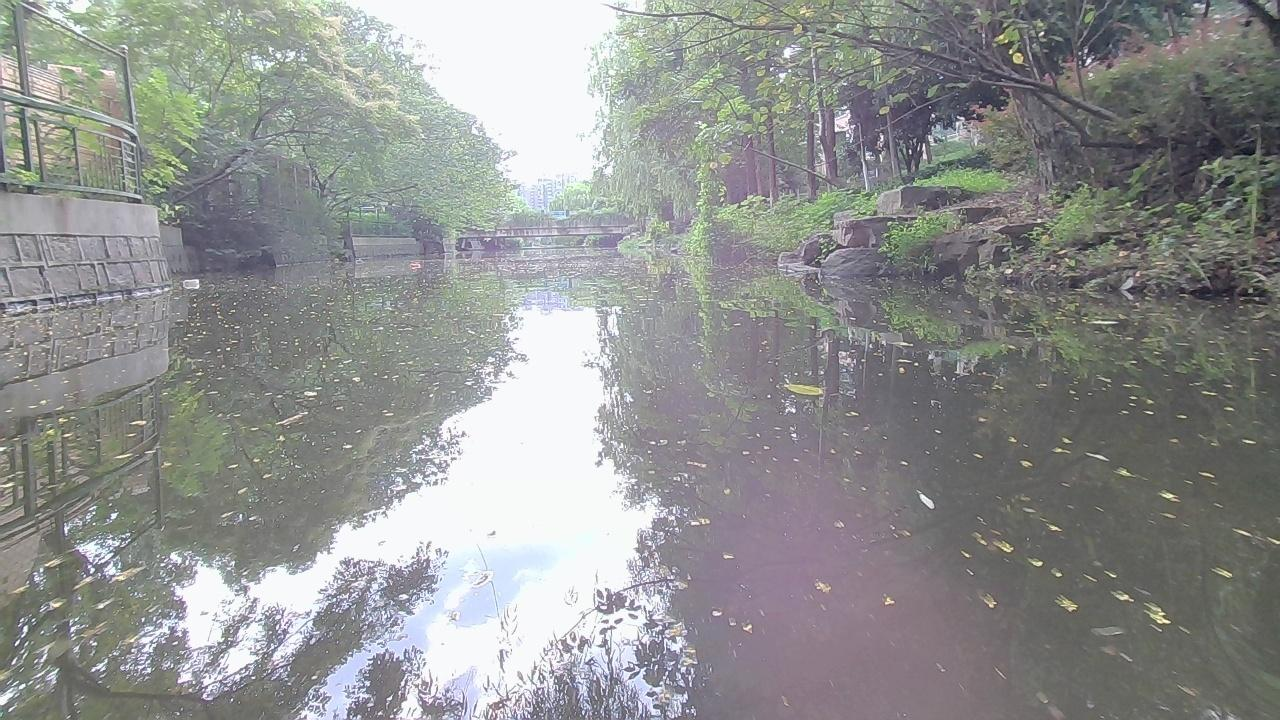bottle: (181, 276, 200, 285), (407, 259, 419, 268)
